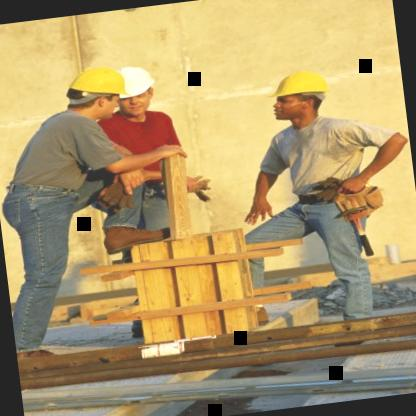helmet: (58, 58, 142, 126), (262, 61, 342, 132), (103, 61, 162, 123)
